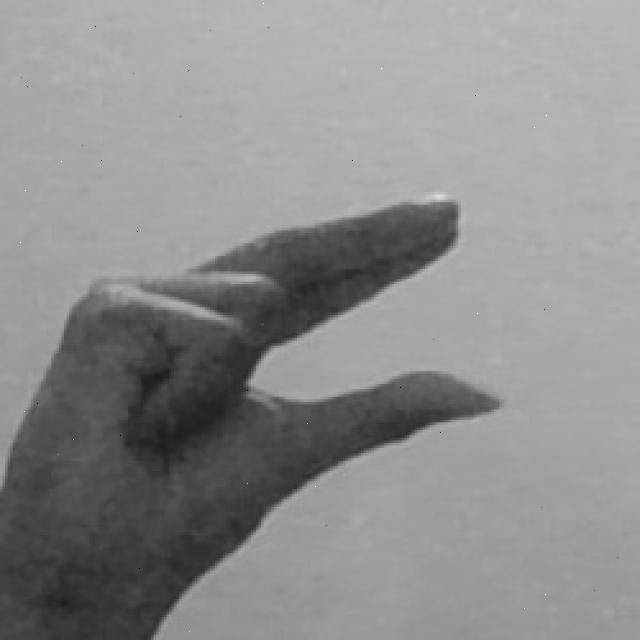G: (0, 190, 507, 638)
